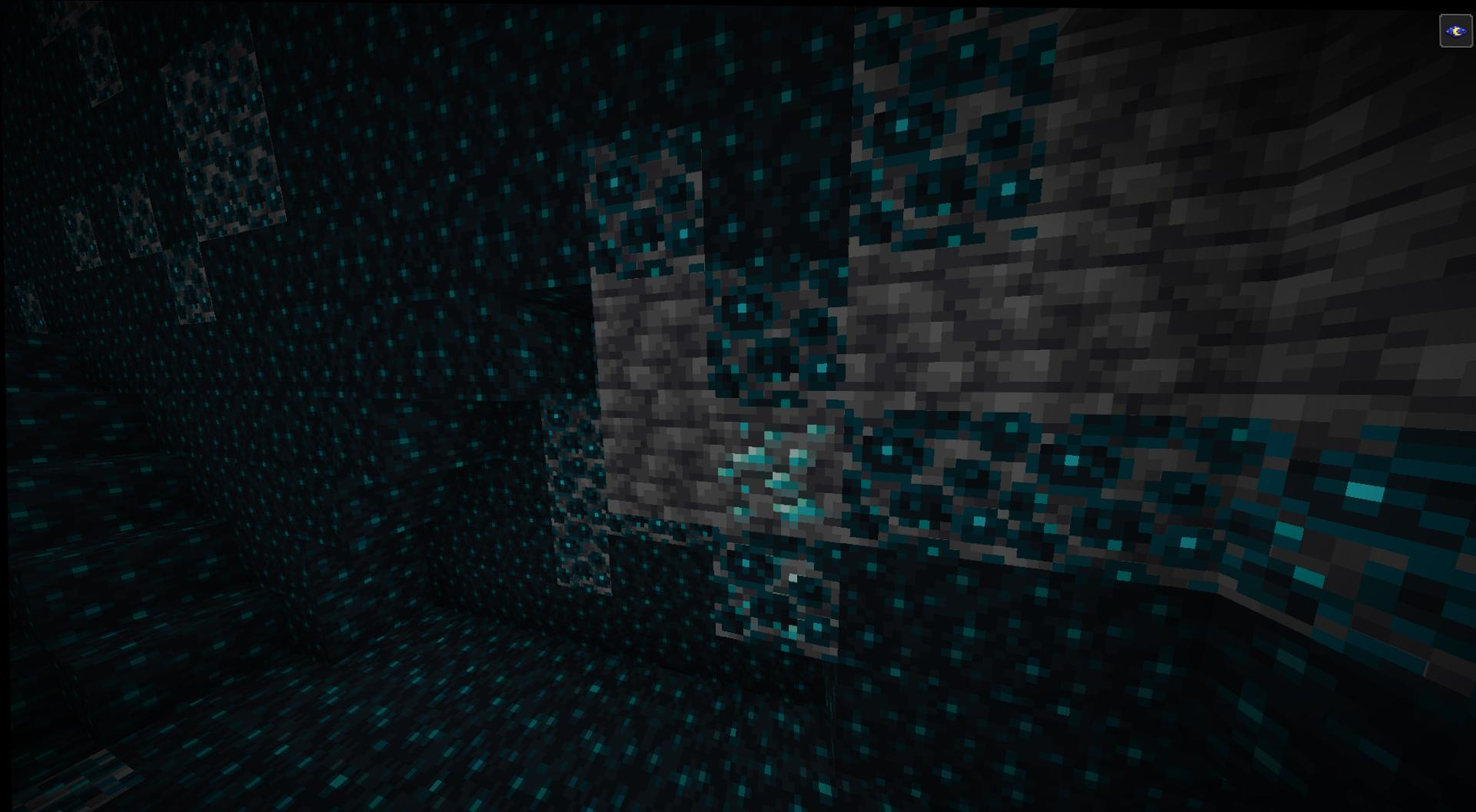diamond ore: (714, 413, 845, 536)
